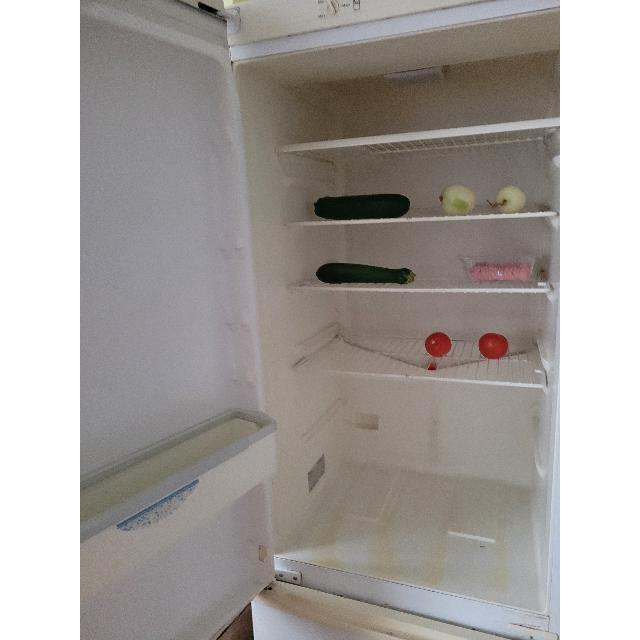meat: (469, 262, 531, 282)
onion: (439, 185, 476, 217), (493, 186, 527, 214)
tomato: (478, 332, 509, 360), (424, 332, 452, 358)
zucchini: (314, 193, 411, 220), (316, 262, 414, 284)
